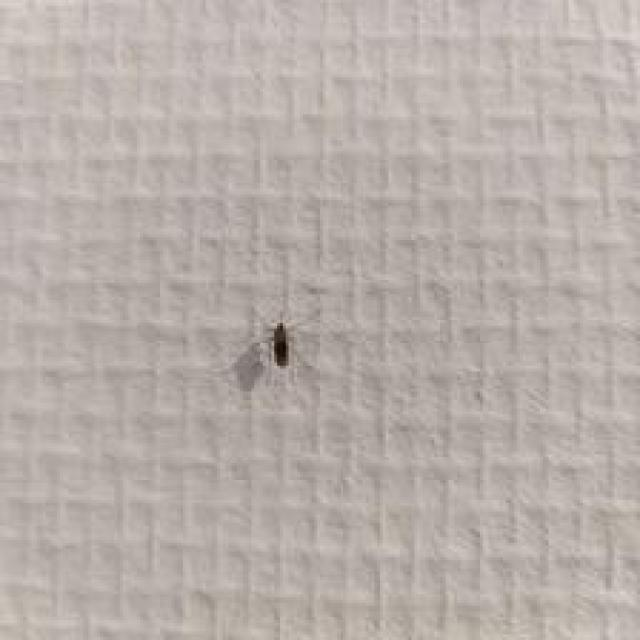Culex: (270, 322, 290, 367)
